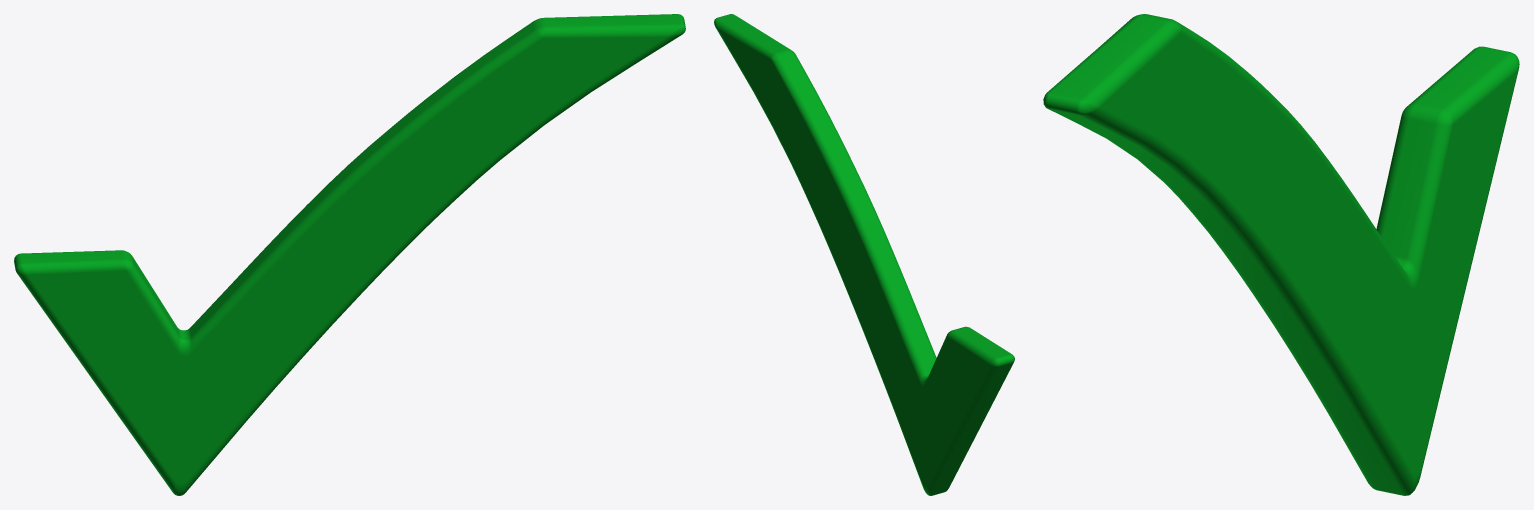
Rendered from CheckMark.glb.
3 renders of one model, left to right at view 1: azimuth 30°, elevation 25°; view 2: azimuth 150°, elevation 25°; view 3: azimuth 270°, elevation 25°, orthographic. The views are drawn at different scales.
Visible parts, largest first — view 1: node_id5; view 2: node_id5; view 3: node_id5.
Boxes of the visible parts, box(x1,y1,x2,y2) form: node_id5: box(14, 14, 685, 495); node_id5: box(714, 14, 1014, 495); node_id5: box(1043, 14, 1519, 495).
Size of the model in its own units: 0.512 by 0.421 by 0.2666.
1 material, 1 textured.
